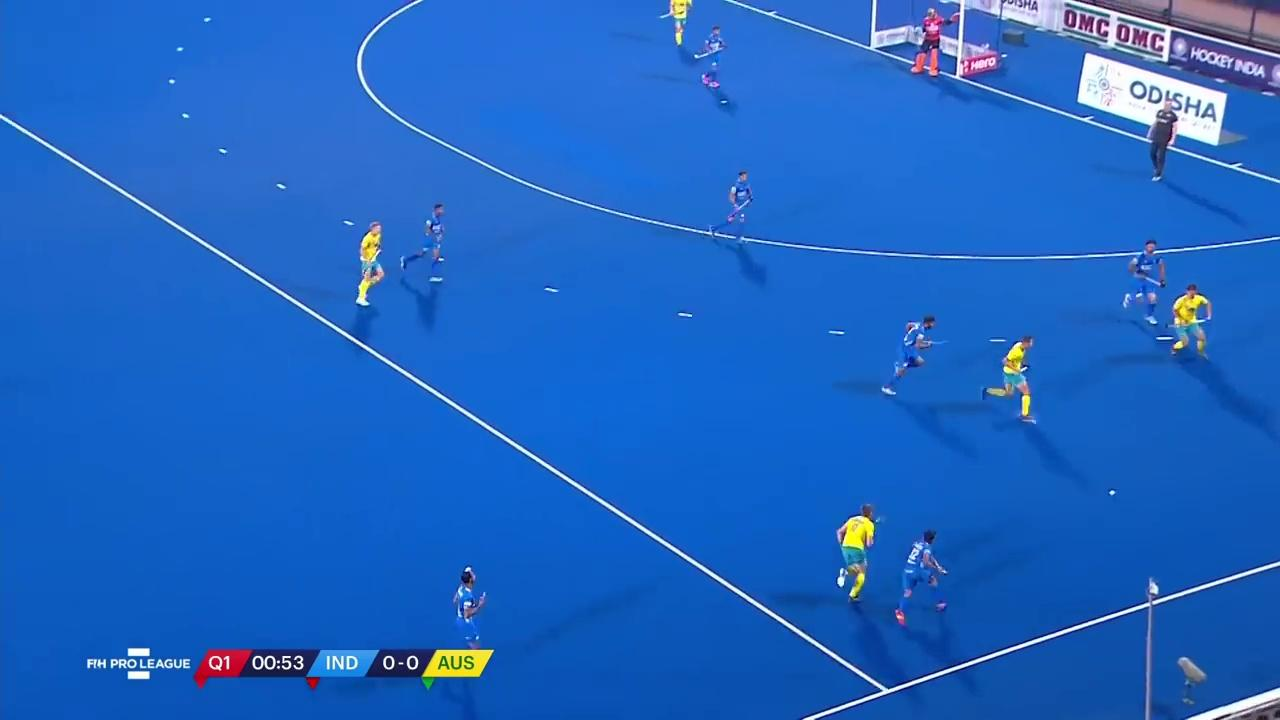ball: (1107, 488, 1118, 497)
